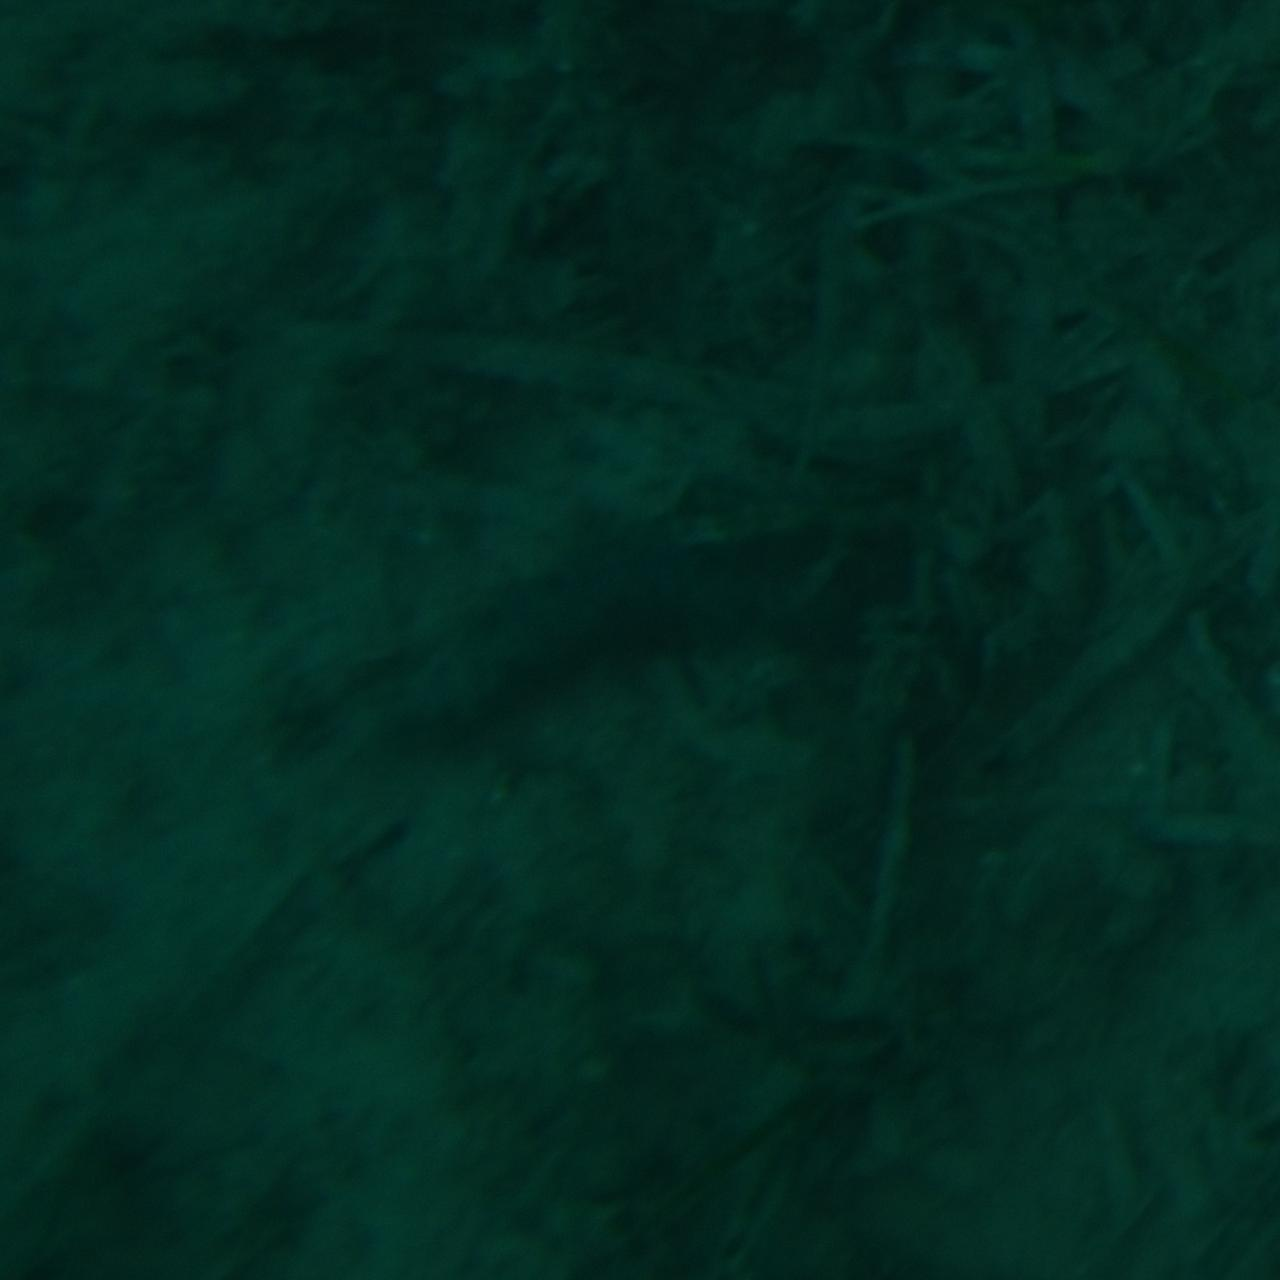Holothuria tubulosa: (350, 491, 930, 789)
